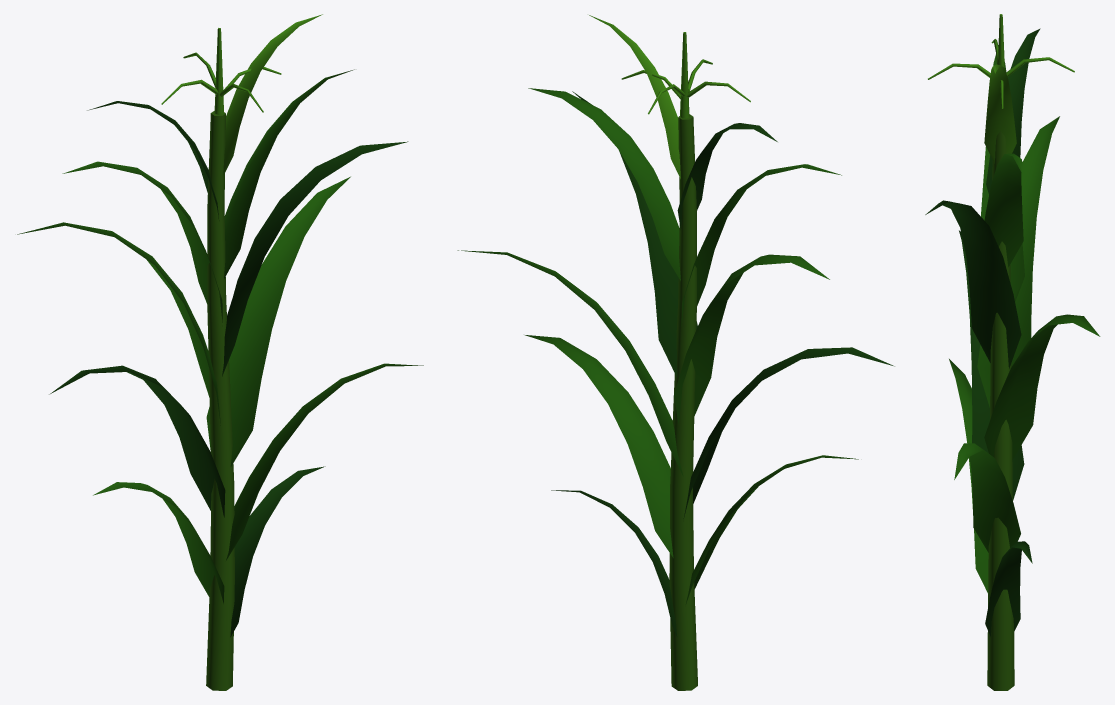
File: Corn_3.obj
The picture shows the model from 3 angles, left to right: view 1: azimuth 30°, elevation 25°; view 2: azimuth 150°, elevation 25°; view 3: azimuth 270°, elevation 25°; orthographic projection. The views are drawn at different scales.
Parts seen in each view (by area): view 1: Corn_3; view 2: Corn_3; view 3: Corn_3.
Part boxes in pixels (left/top/right/bottom): Corn_3: left=17, top=14, right=423, bottom=690; Corn_3: left=457, top=15, right=894, bottom=690; Corn_3: left=925, top=14, right=1100, bottom=690.
Size of the model in its own units: 1.03 by 1.71 by 0.4079.
